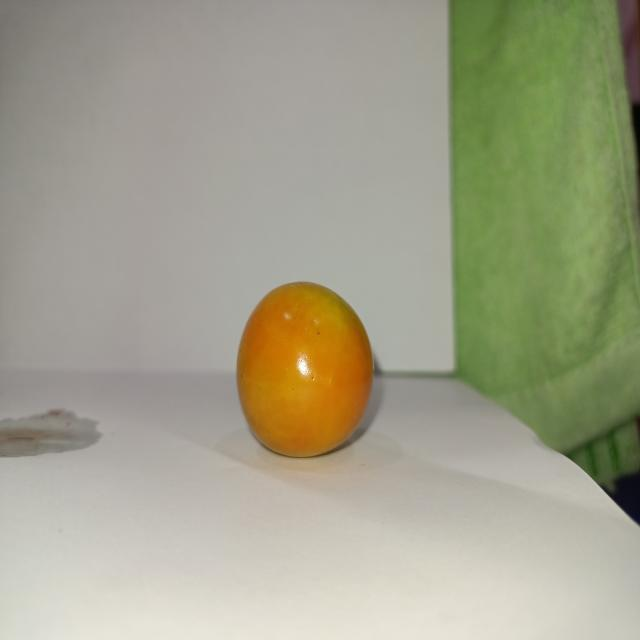Red: (234, 279, 374, 458)
